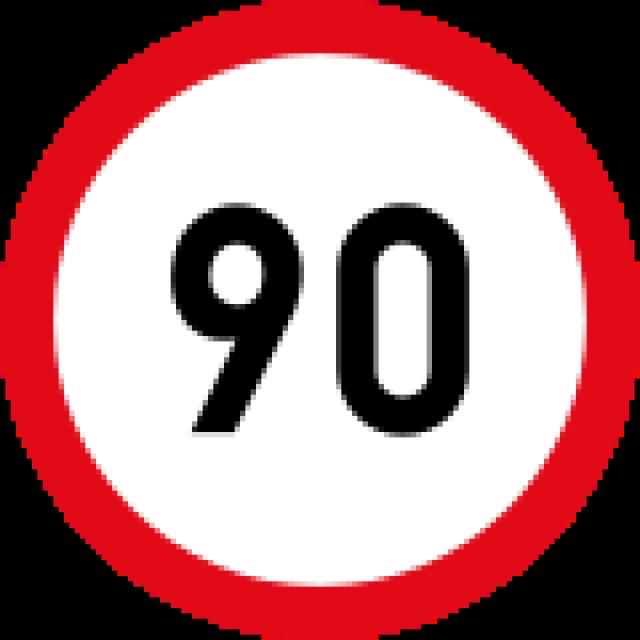Speed Limit -90-: (137, 170, 503, 459)
